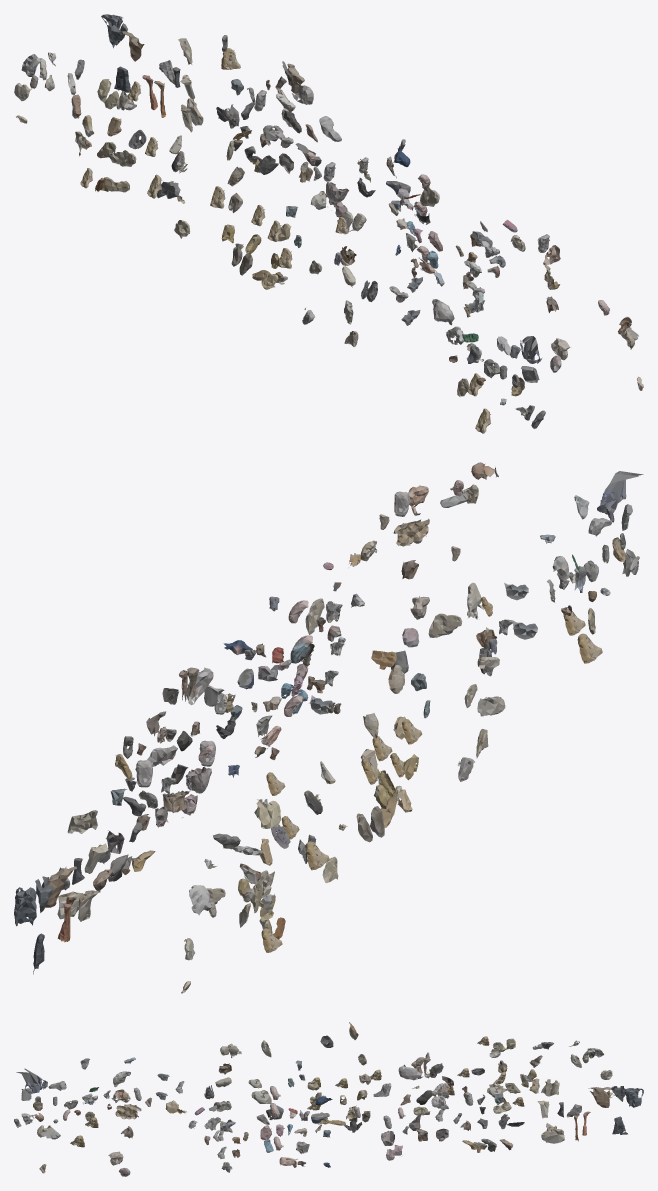
File: models-0-0.glb
3 renders of one model, top to bottom at view 1: azimuth 30°, elevation 25°; view 2: azimuth 150°, elevation 25°; view 3: azimuth 270°, elevation 25°, orthographic. The views are drawn at different scales.
Visible parts, largest first — view 1: no part large enough to name; view 2: obj-0-289, obj-0-675; view 3: obj-0-289, obj-0-10, obj-0-955, obj-0-716, obj-0-675, obj-0-696.
Part boxes in pixels (x1,y1,x2,y2): obj-0-289: (597, 471, 643, 514); obj-0-675: (14, 887, 36, 926); obj-0-289: (16, 1068, 47, 1093); obj-0-10: (588, 1087, 611, 1107); obj-0-955: (115, 1104, 141, 1119); obj-0-716: (541, 1129, 564, 1143); obj-0-675: (624, 1088, 643, 1107); obj-0-696: (398, 1064, 422, 1080).
Bounding box in the file's own units: 3.7 × 2.7 × 13.96.
